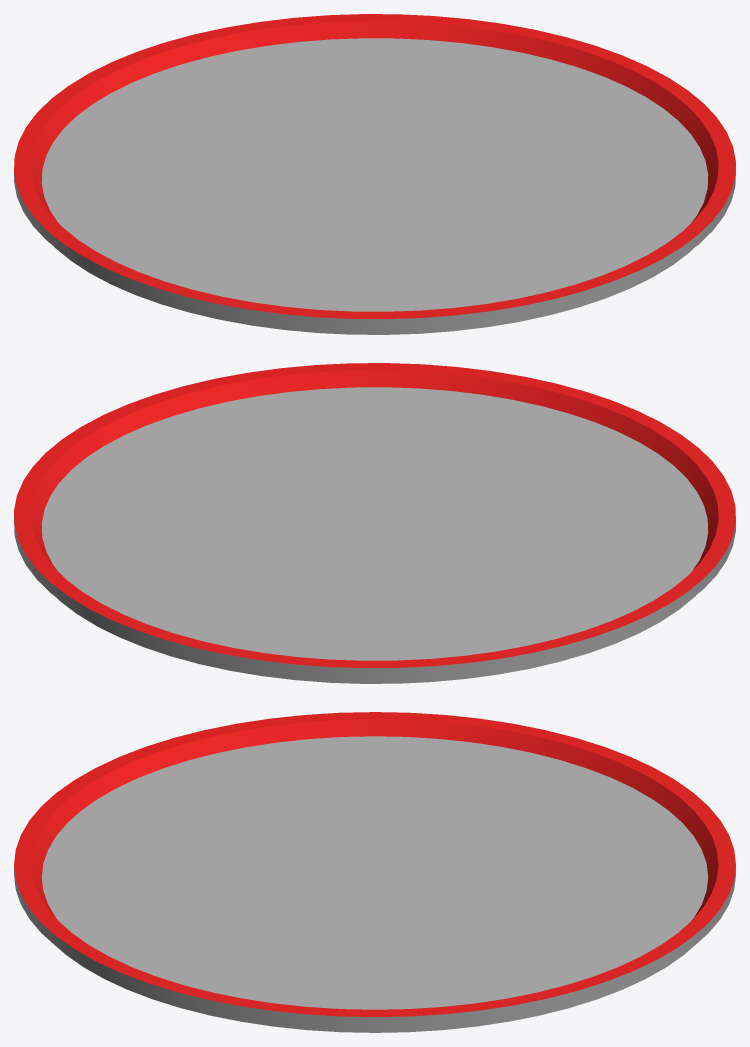
Rendered from tin_pizza.glb.
The picture shows the model from 3 angles, top to bottom: view 1: azimuth 30°, elevation 25°; view 2: azimuth 150°, elevation 25°; view 3: azimuth 270°, elevation 25°; orthographic projection.
Visible parts, largest first — view 1: tin_pizza.001; view 2: tin_pizza.001; view 3: tin_pizza.001.
Boxes of the visible parts, <box> form: tin_pizza.001: <box>14,14,735,334</box>; tin_pizza.001: <box>14,363,735,683</box>; tin_pizza.001: <box>14,712,735,1032</box>.
Size of the model in its own units: 0.2536 by 0.00777 by 0.2536.
Materials: 1 (1 with a texture image).
